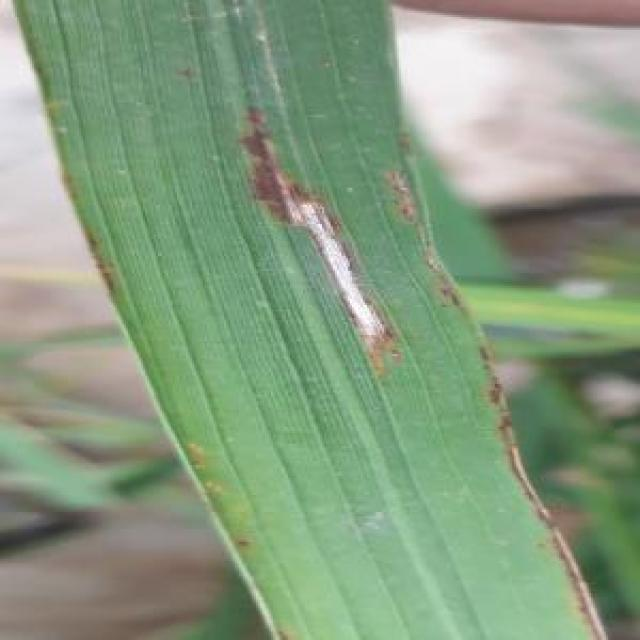Leaf_Blast: (224, 117, 416, 399)
